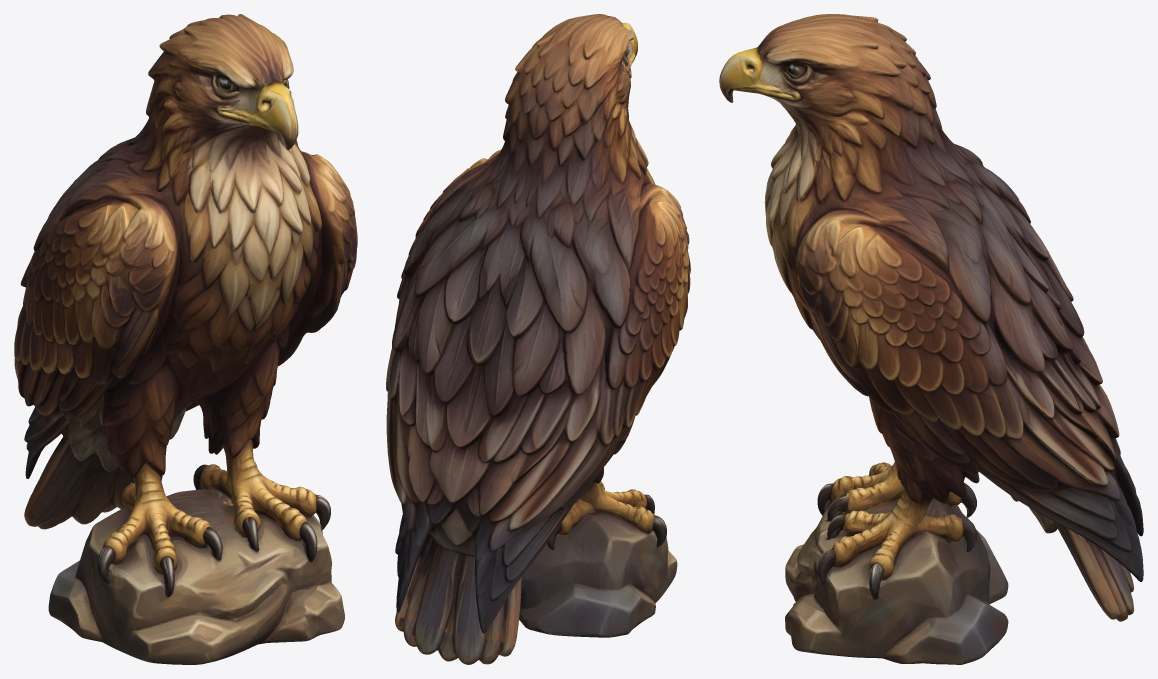
The model's file is eagle.glb.
3 renders of one model, left to right at view 1: azimuth 30°, elevation 25°; view 2: azimuth 150°, elevation 25°; view 3: azimuth 270°, elevation 25°, orthographic. The views are drawn at different scales.
Parts seen in each view (by area): view 1: output_unwrapped; view 2: output_unwrapped; view 3: output_unwrapped.
Boxes of the visible parts, box(x1,y1,x2,y2) form: output_unwrapped: box(14, 14, 357, 664); output_unwrapped: box(386, 14, 690, 664); output_unwrapped: box(719, 14, 1143, 664).
Size of the model in its own units: 0.9016 by 1.9 by 1.24.
Materials: 1 (1 with a texture image).
